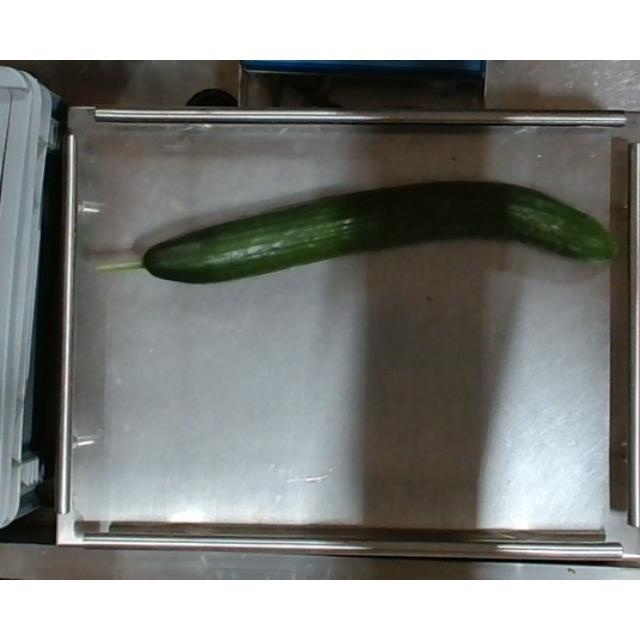cucumber: (97, 180, 618, 286)
